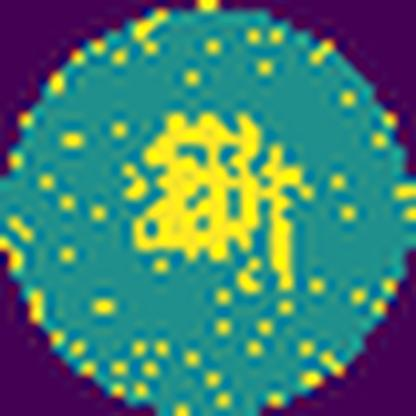Center: (132, 110, 312, 292)
